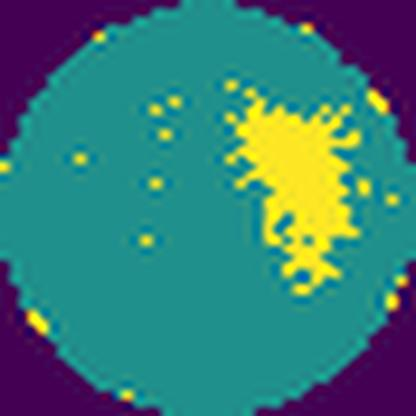Loc: (223, 84, 365, 301)
